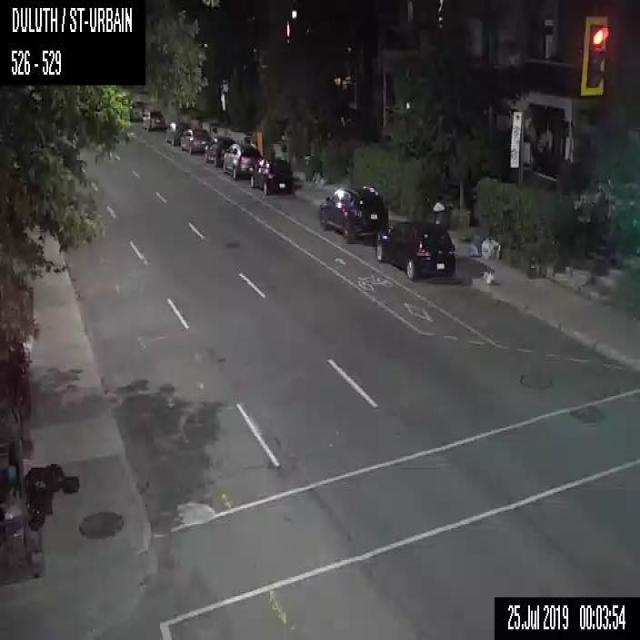vehicle: (375, 220, 455, 280), (317, 184, 388, 242), (250, 158, 291, 195), (222, 142, 262, 178), (203, 136, 236, 168), (179, 128, 211, 152), (165, 120, 189, 146), (141, 108, 164, 131), (130, 100, 144, 120)
